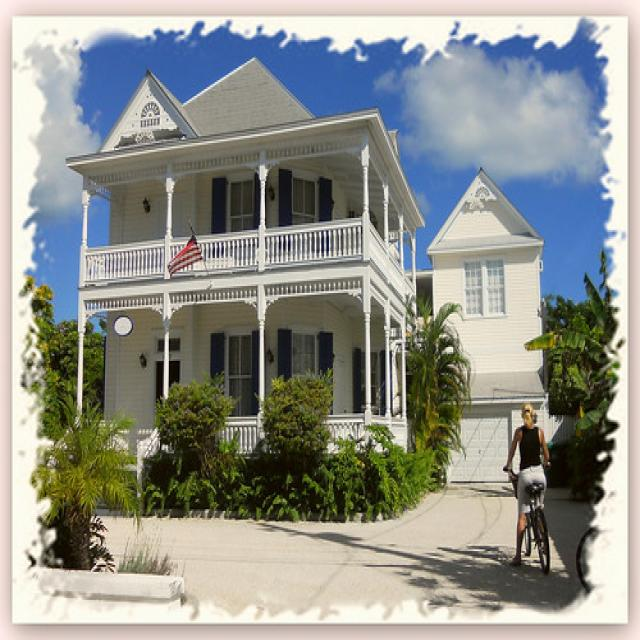Normal_building: (60, 54, 557, 520)
